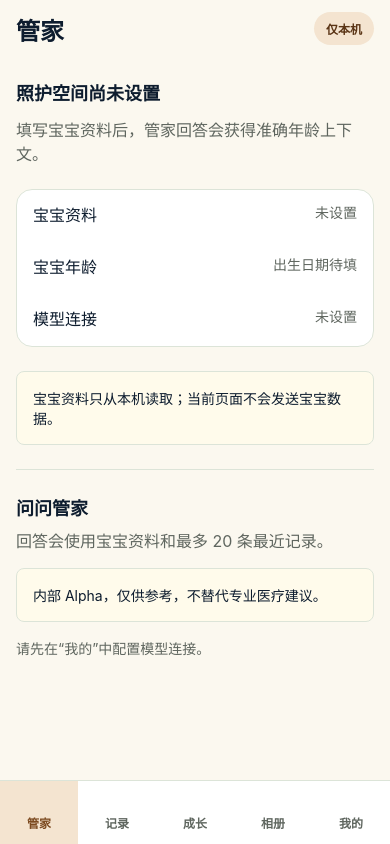
Test: 管家 reloads exact age when it regains focus after profile editing
The image size is (390, 844).
Expected: the heading "照护空间尚未设置" is shown, x1=16 y1=83 x2=160 y2=104
Click the tab labelled "我的". click: point(351, 824)
box: x1=339 y1=816 x2=363 y2=831
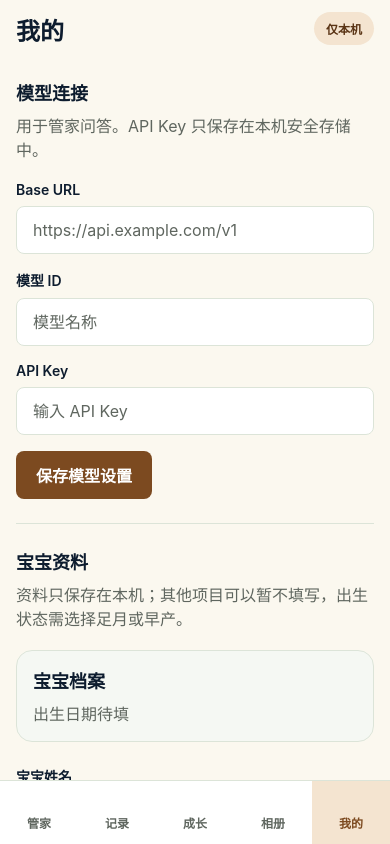
Click the tab labelled "管家". click: point(39, 824)
box: x1=27 y1=816 x2=51 y2=831
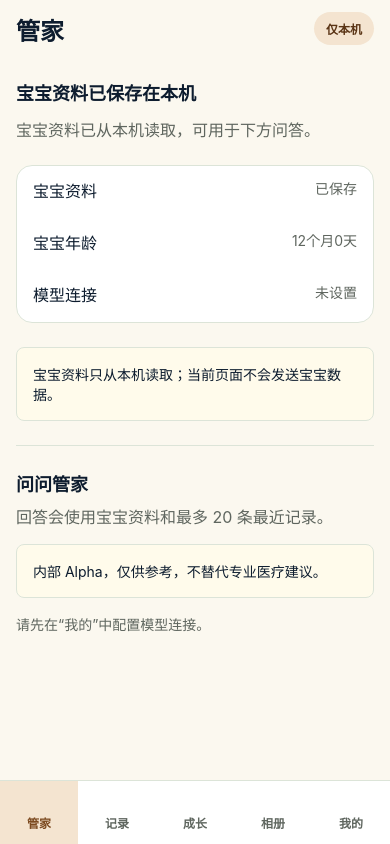
Now the text "12个月0天" is shown, box x1=292 y1=230 x2=357 y2=250
